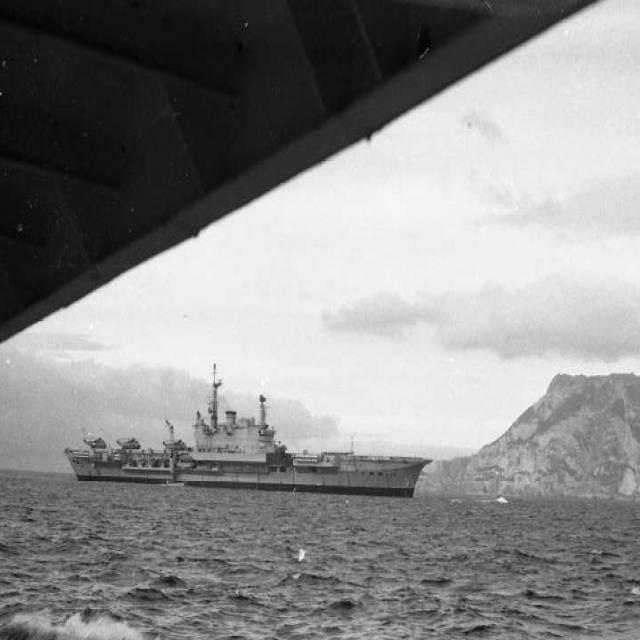Portanaves: (62, 355, 438, 503)
